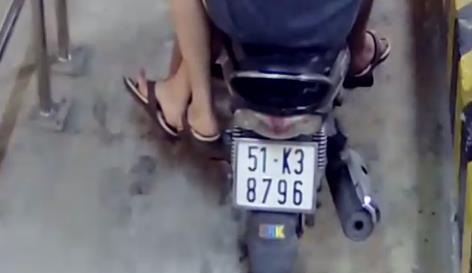lisence: (234, 138, 318, 215)
